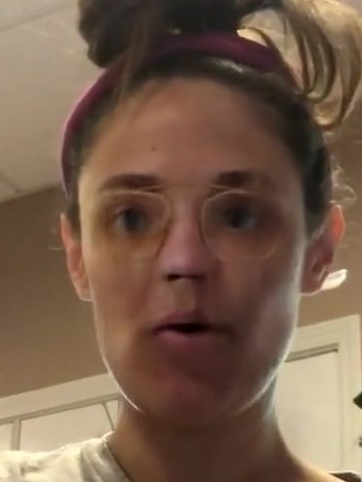n_f: (155, 193, 221, 290)
